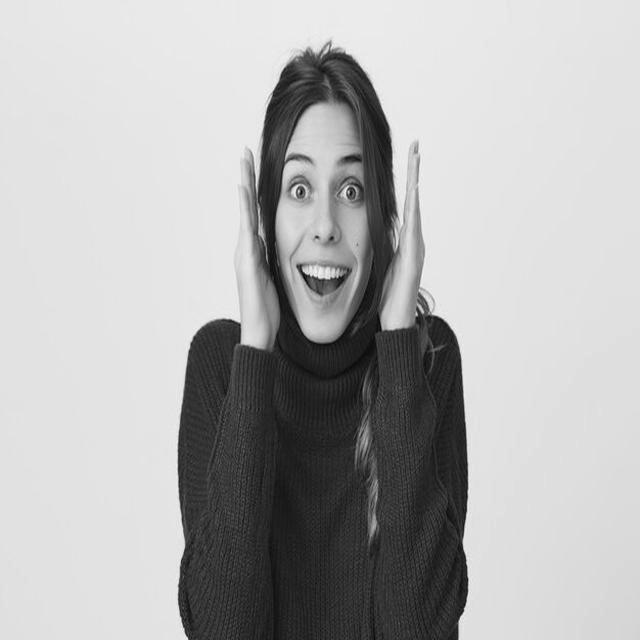Surprised: (275, 100, 375, 344)
